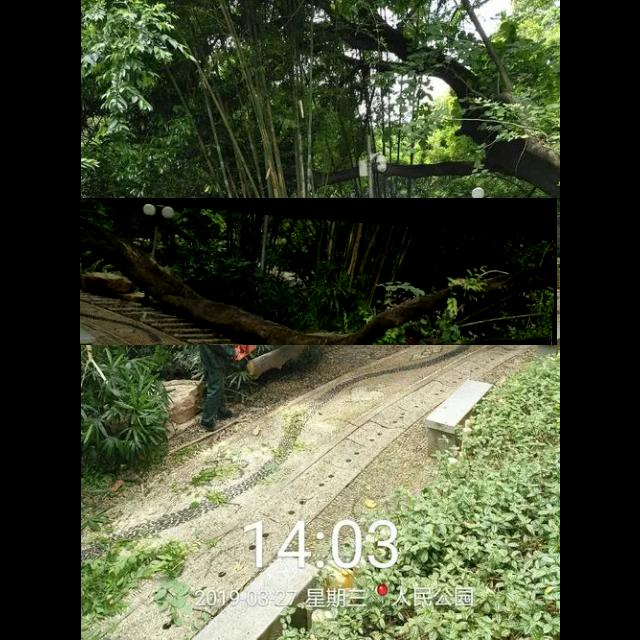Fallen Tree: (80, 198, 558, 346)
